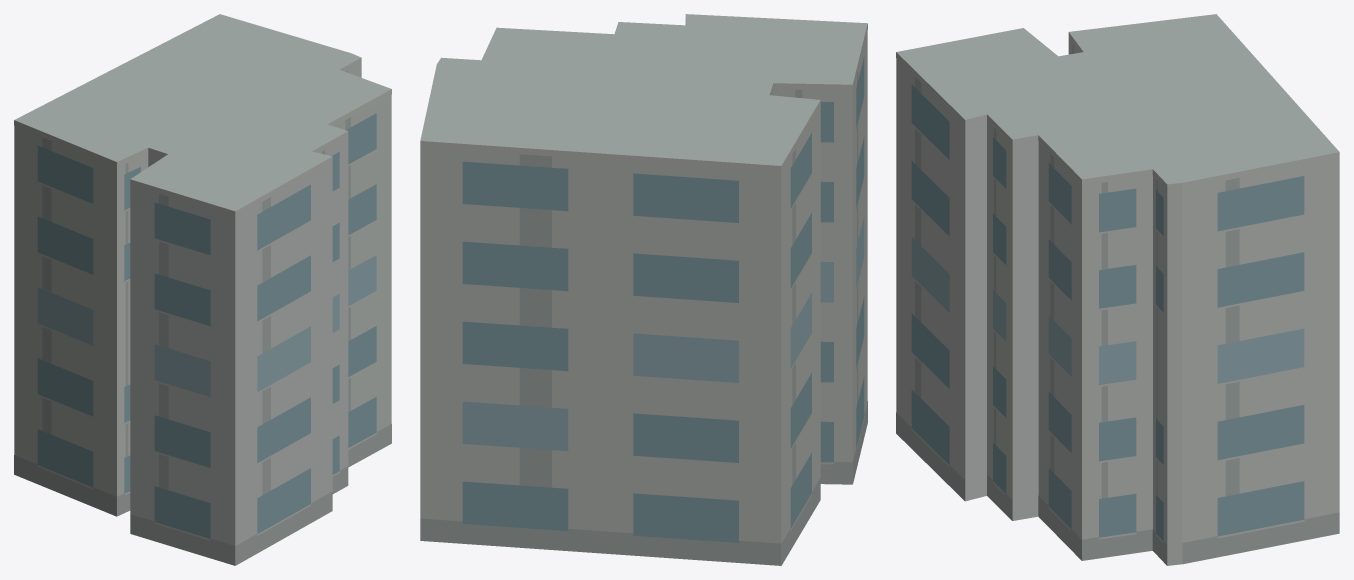
Rendered from survey-upis-33022821.glb.
3 views of the same model, side by side, from view 1: azimuth 30°, elevation 25°; view 2: azimuth 150°, elevation 25°; view 3: azimuth 270°, elevation 25° (orthographic). The views are drawn at different scales.
Visible parts, largest first — view 1: survey-upis-33022821.tmp; view 2: survey-upis-33022821.tmp; view 3: survey-upis-33022821.tmp.
Boxes of the visible parts, x1,y1,x2,y2 form: survey-upis-33022821.tmp: (14, 14, 391, 565); survey-upis-33022821.tmp: (420, 14, 867, 565); survey-upis-33022821.tmp: (896, 14, 1339, 565).
Size of the model in its own units: 14.62 by 15.25 by 16.08.
